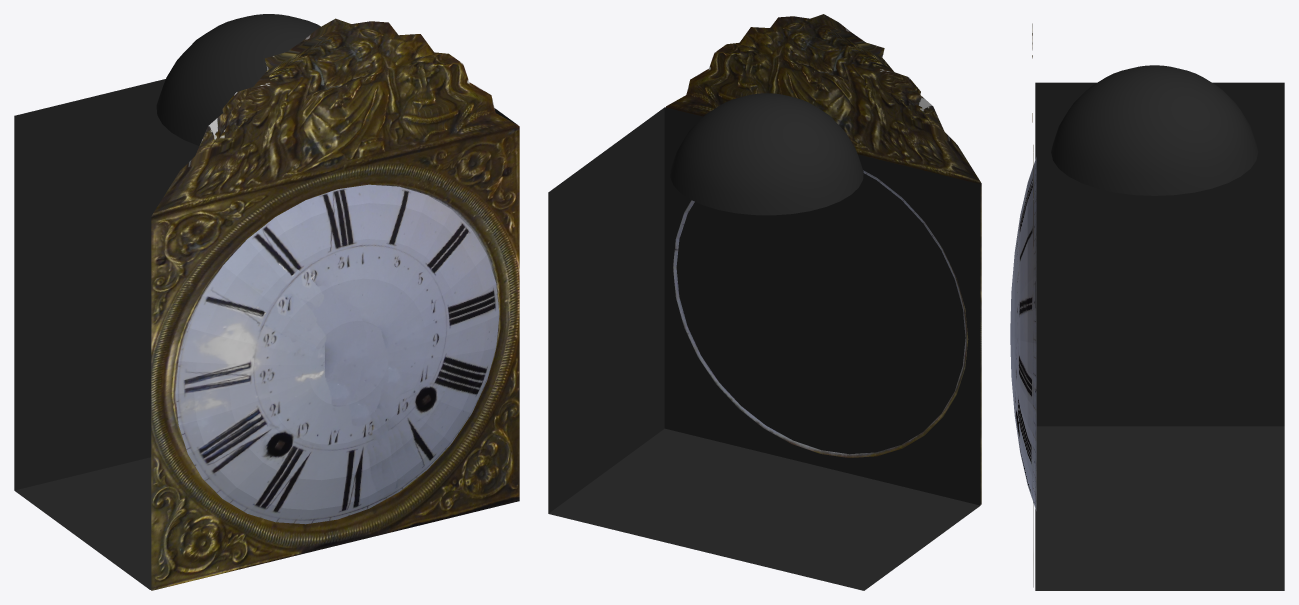
File: clock.glb
3 views of the same model, side by side, from view 1: azimuth 30°, elevation 25°; view 2: azimuth 150°, elevation 25°; view 3: azimuth 270°, elevation 25° (orthographic). The views are drawn at different scales.
Visible parts, largest first — view 1: Cube.001, Cube.002, Sphere; view 2: Cube.002, Cube.001, Sphere; view 3: Cube.002, Sphere, Cube.001.
Boxes of the visible parts, box(x1,y1,x2,y2) form: Cube.001: box(151, 18, 519, 590); Cube.002: box(14, 79, 517, 589); Sphere: box(156, 14, 320, 145); Cube.002: box(548, 107, 980, 590); Cube.001: box(666, 14, 981, 504); Sphere: box(670, 93, 863, 215); Cube.002: box(1035, 82, 1284, 590); Sphere: box(1051, 65, 1258, 195); Cube.001: box(1010, 23, 1036, 587).
Bounding box in the file's own units: 1.71 × 2.34 × 1.2.
Materials: 2 (1 with a texture image).
